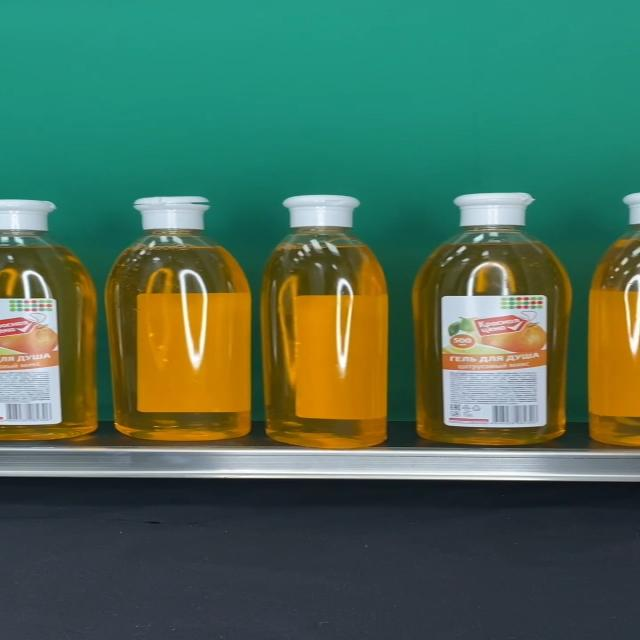Bottle: (412, 192, 572, 444), (105, 196, 251, 441), (260, 195, 389, 449)
Cap: (452, 192, 534, 225), (134, 197, 211, 231), (281, 196, 359, 228)
